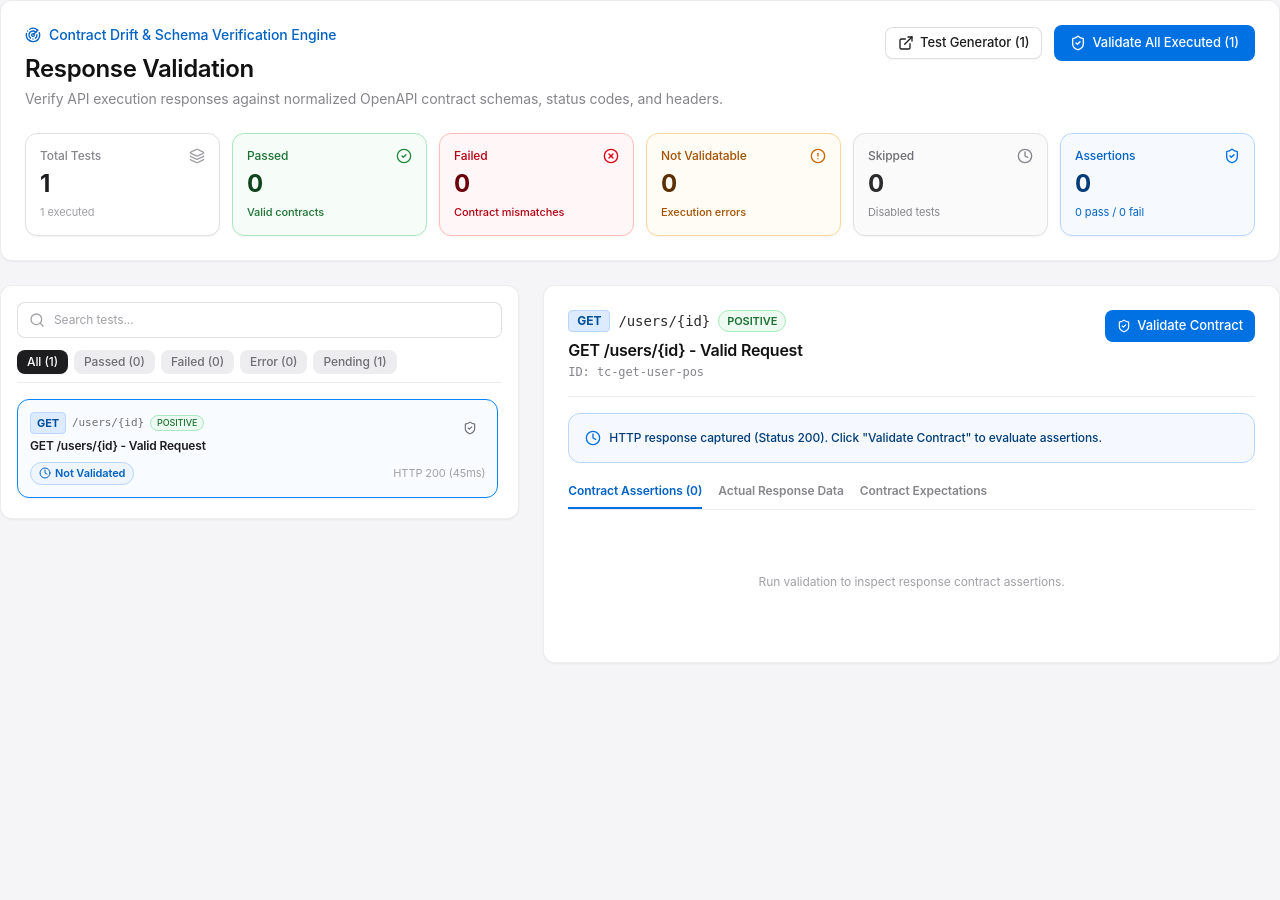
ResponseValidationPage Component Tests › handles validation API errors gracefully and resets loading state
Click the button "Validate All Executed (1)".
click(1155, 43)  # box [1054,25,1255,61]
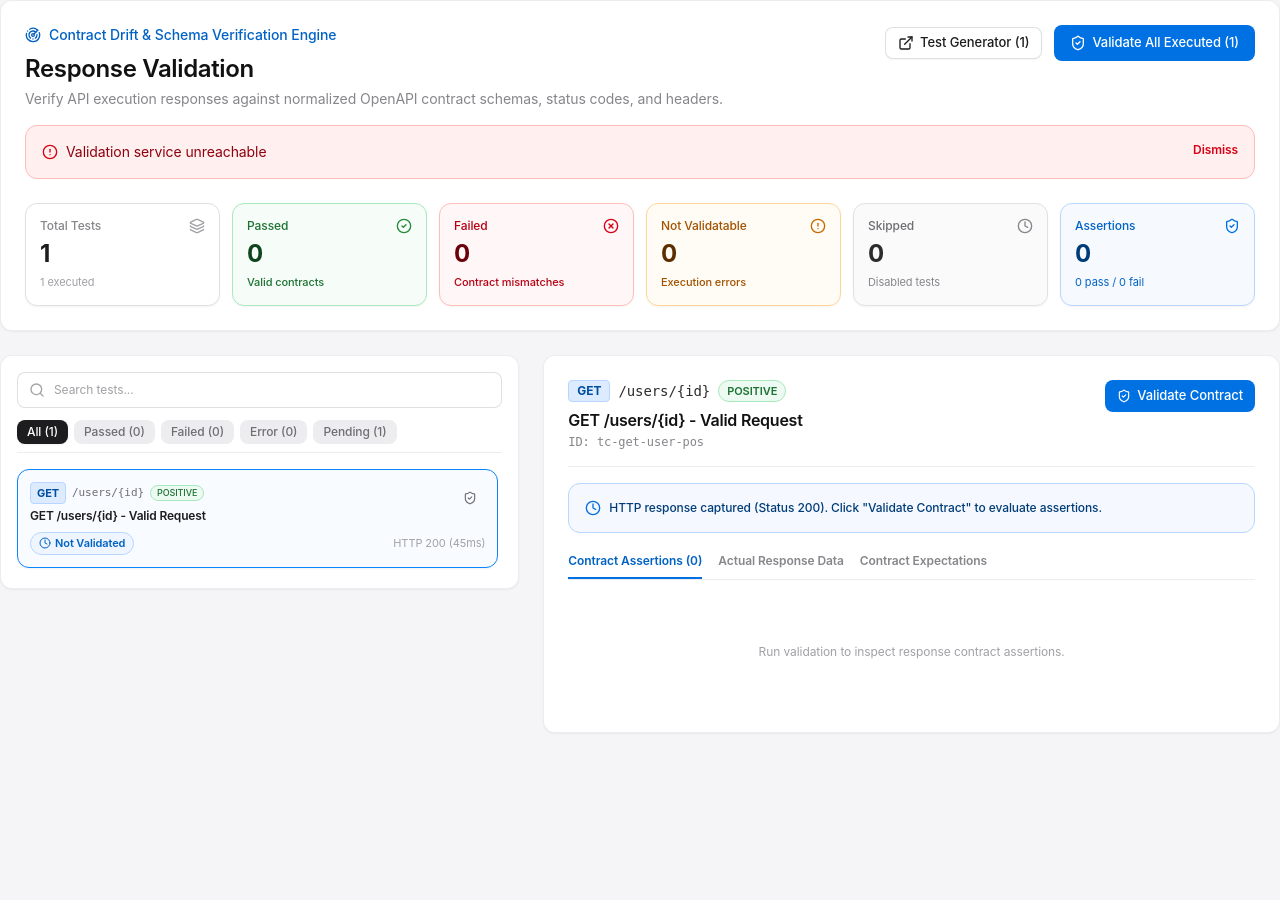
Check: the text "Validation service unreachable" is shown, box [66,142,266,162]
